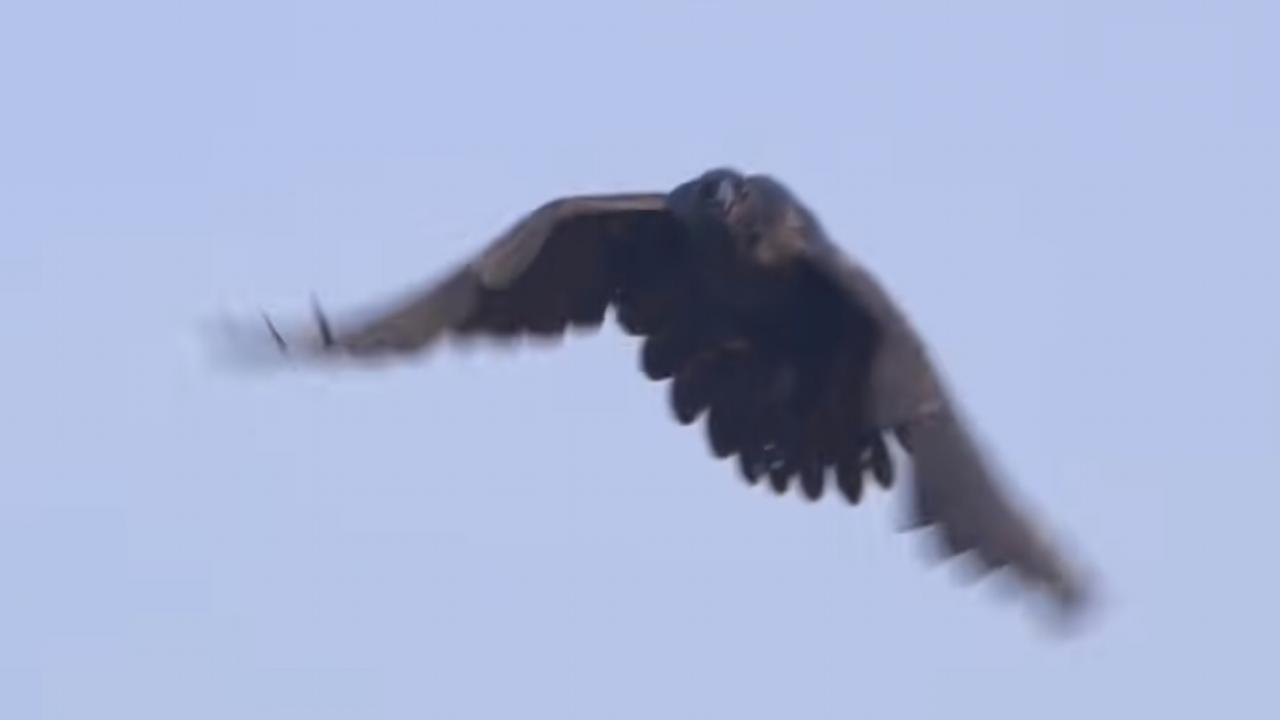Bird: (194, 161, 1113, 647)
